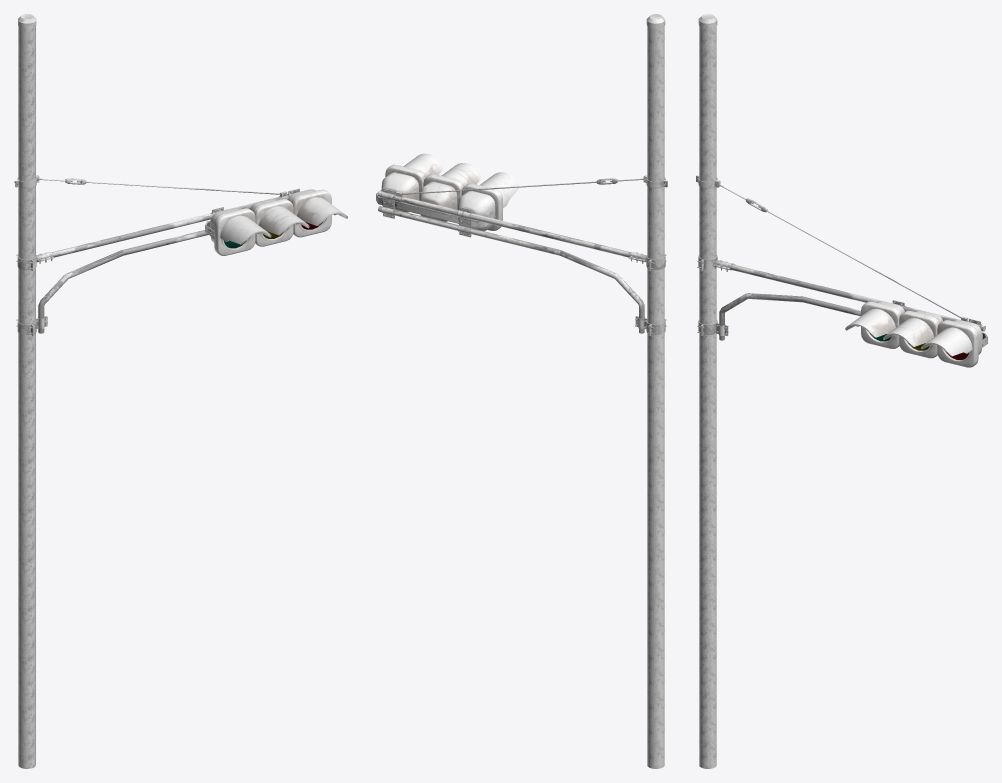
The model's file is TrafficLight.glb.
3 renders of one model, left to right at view 1: azimuth 30°, elevation 25°; view 2: azimuth 150°, elevation 25°; view 3: azimuth 330°, elevation 25°, orthographic.
Visible parts, largest first — view 1: TrafficLightPole_LOD0, TrafficLight_forCar_LOD0; view 2: TrafficLightPole_LOD0, TrafficLight_forCar_LOD0; view 3: TrafficLightPole_LOD0, TrafficLight_forCar_LOD0.
Part boxes in pixels (bbox=[...]): TrafficLightPole_LOD0: bbox=[18, 14, 36, 768]; TrafficLight_forCar_LOD0: bbox=[14, 175, 347, 335]; TrafficLightPole_LOD0: bbox=[646, 14, 665, 768]; TrafficLight_forCar_LOD0: bbox=[376, 153, 667, 335]; TrafficLightPole_LOD0: bbox=[698, 14, 717, 768]; TrafficLight_forCar_LOD0: bbox=[696, 175, 987, 367].
Bounding box in the file's own units: 3.12 × 7.5 × 0.85.
2 materials, 2 textured.
